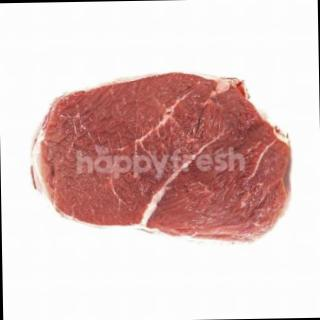Daging Sapi: (31, 73, 295, 245)
